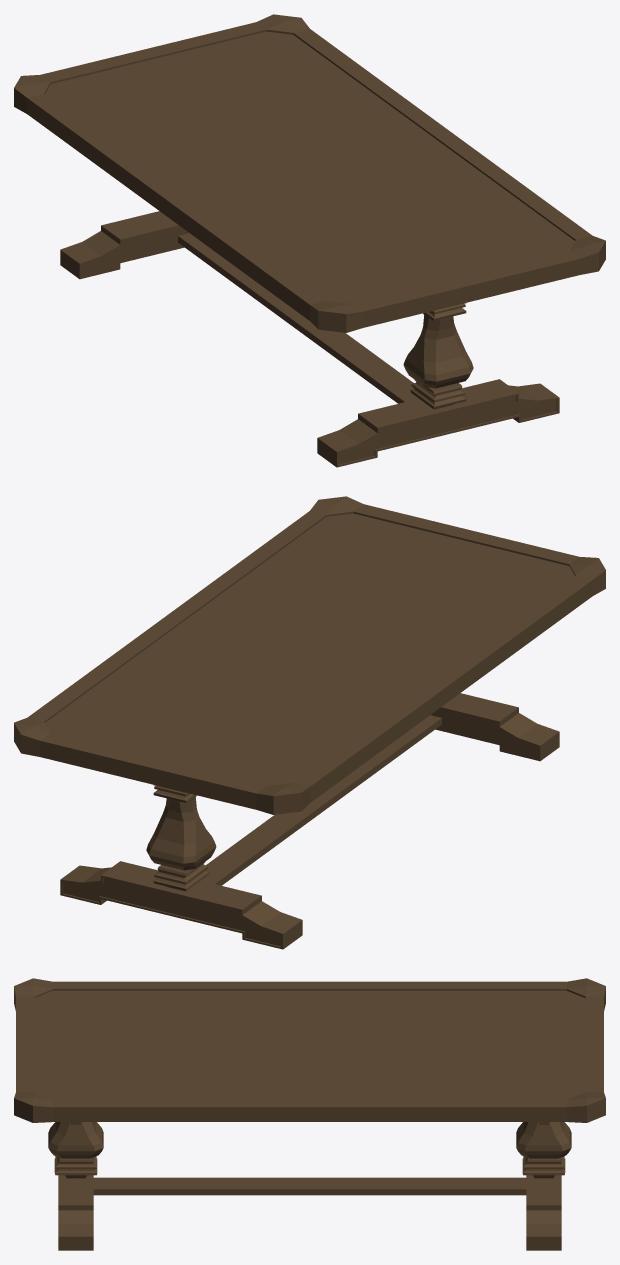
3 views of the same model, one above another, from view 1: azimuth 30°, elevation 25°; view 2: azimuth 150°, elevation 25°; view 3: azimuth 270°, elevation 25° (orthographic). The views are drawn at different scales.
Visible parts, largest first — view 1: Table2; view 2: Table2; view 3: Table2.
Part boxes in pixels (x1=…): Table2: x1=14, y1=14, x2=605, y2=467; Table2: x1=14, y1=496, x2=605, y2=949; Table2: x1=14, y1=978, x2=605, y2=1250.
Bounding box in the file's own units: 1.42 × 0.8244 × 2.78.
